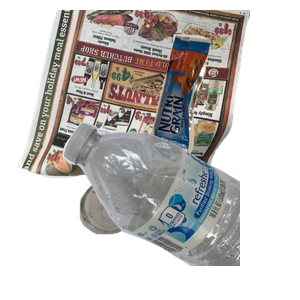glass: (77, 178, 205, 300)
paper: (14, 10, 254, 190)
plastic: (60, 120, 300, 300)
trash: (149, 31, 300, 179)
